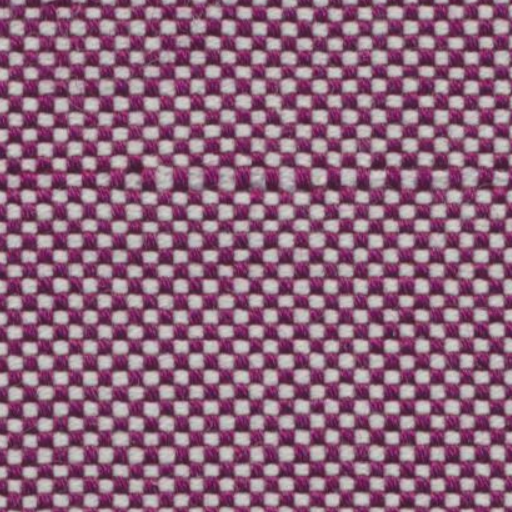DaiSha: (16, 146, 492, 210)
